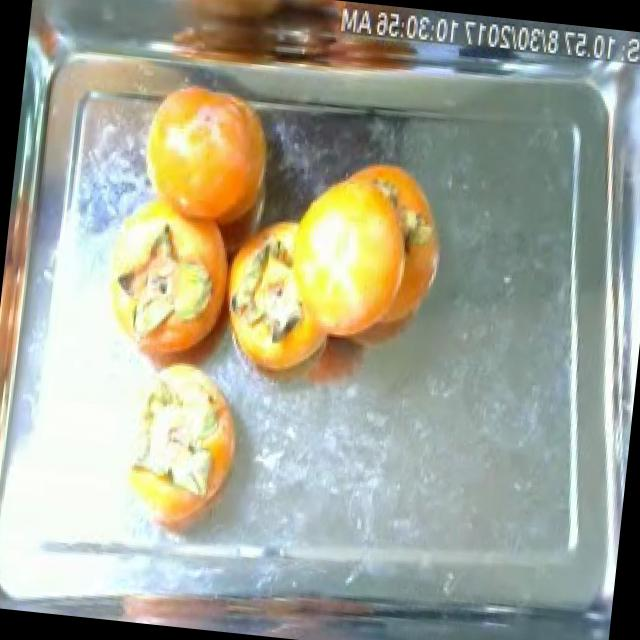Fruit: (262, 136, 460, 358), (124, 59, 298, 258)
